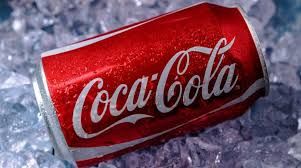drinkcan: (28, 3, 269, 161)
